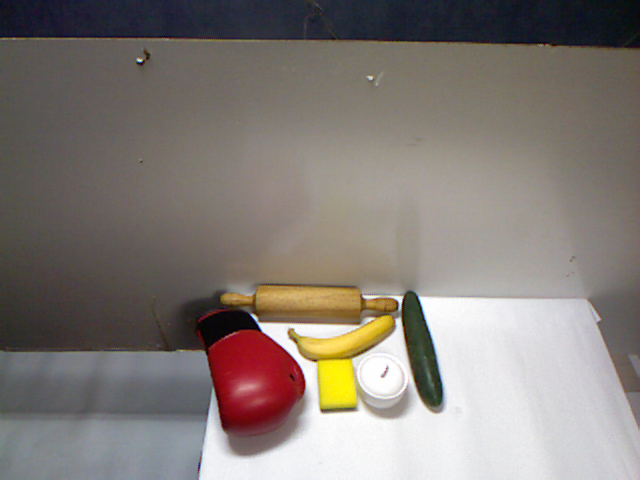cloroplano: (388, 246, 475, 373)
linterna: (227, 298, 293, 368)
mostaza: (215, 335, 257, 399)
pelota: (260, 339, 305, 387)
pepino: (300, 354, 460, 416)
pescado: (311, 300, 397, 357)
